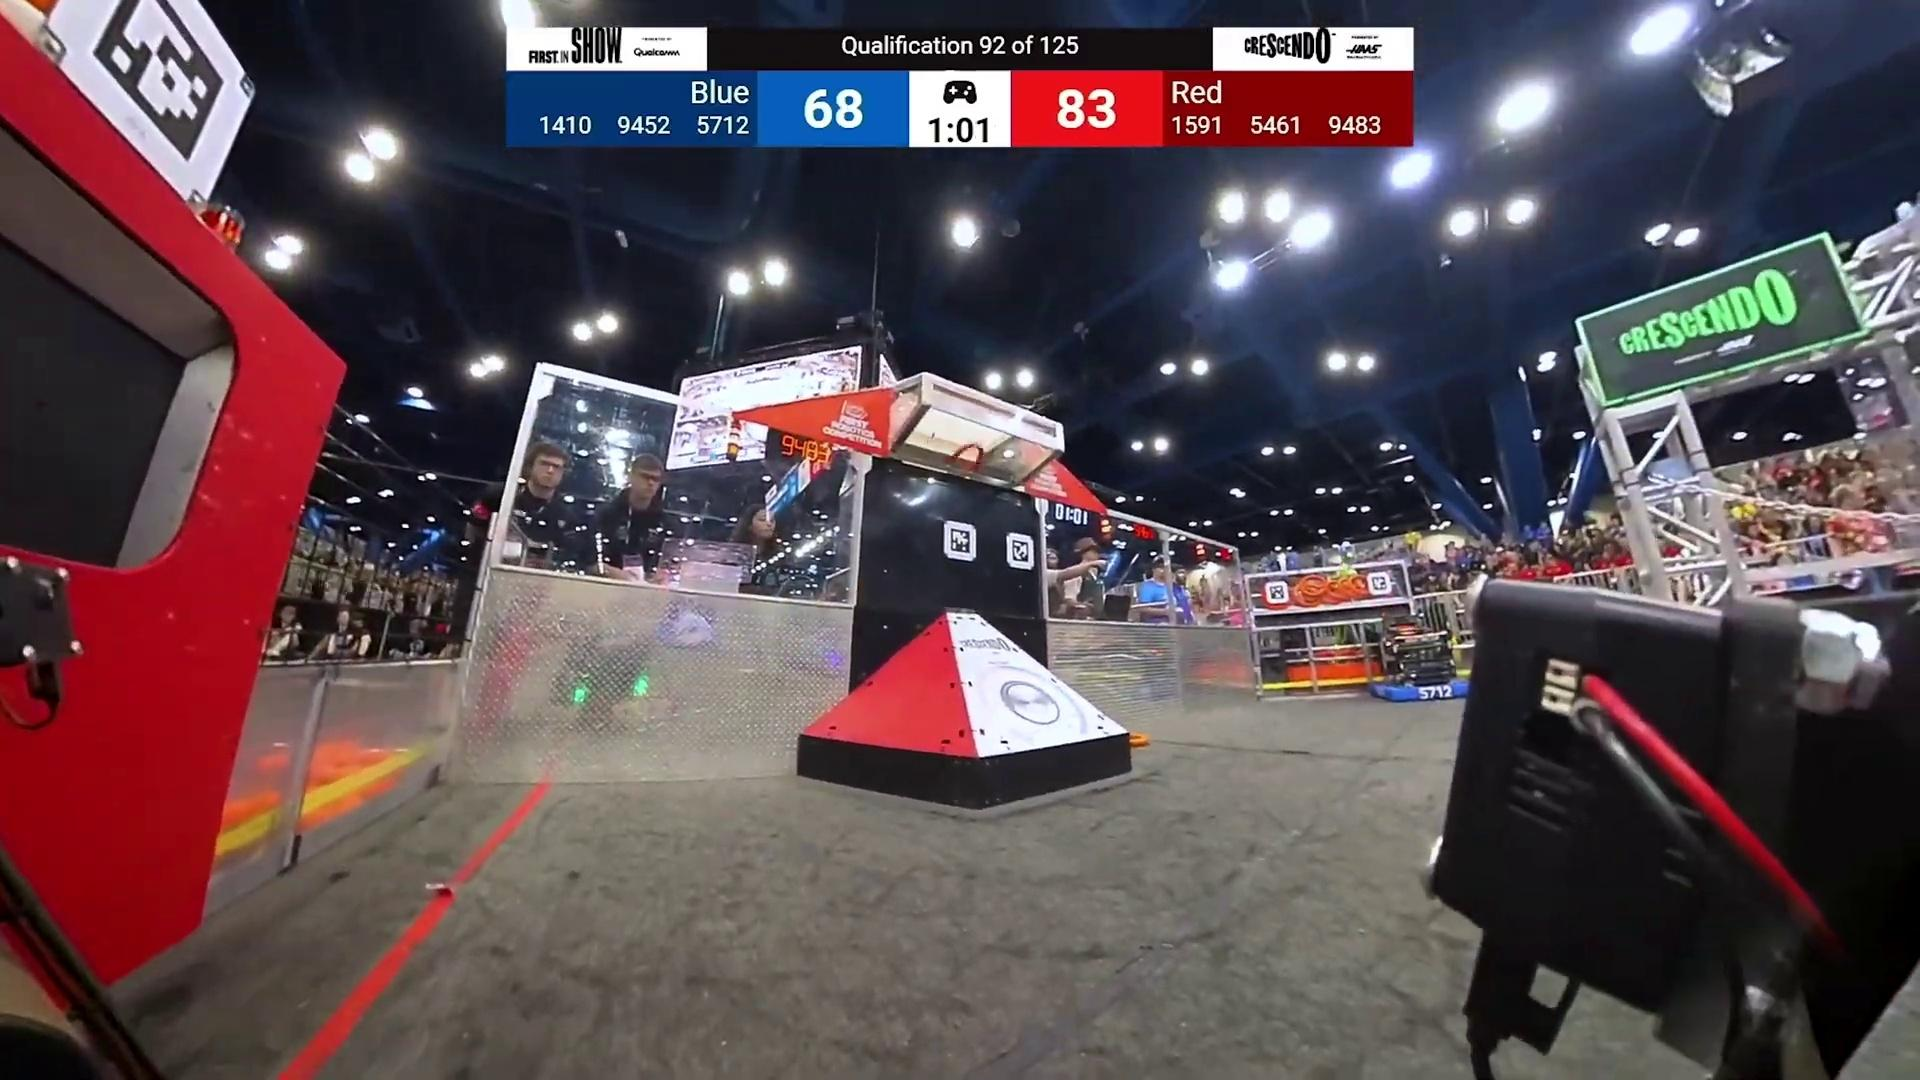robot: (1369, 613, 1469, 702)
